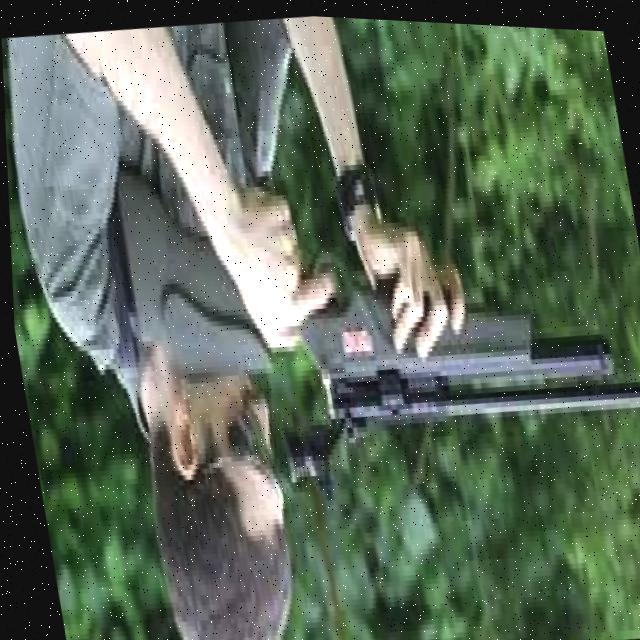firearm: (78, 95, 640, 537)
